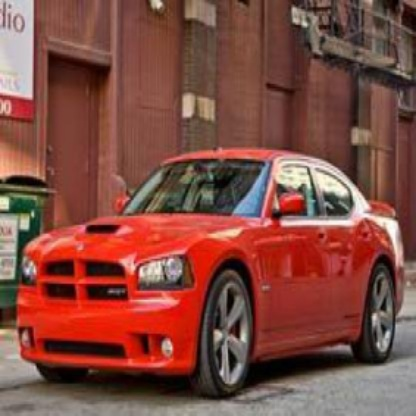Vehicle: (12, 139, 410, 402)
